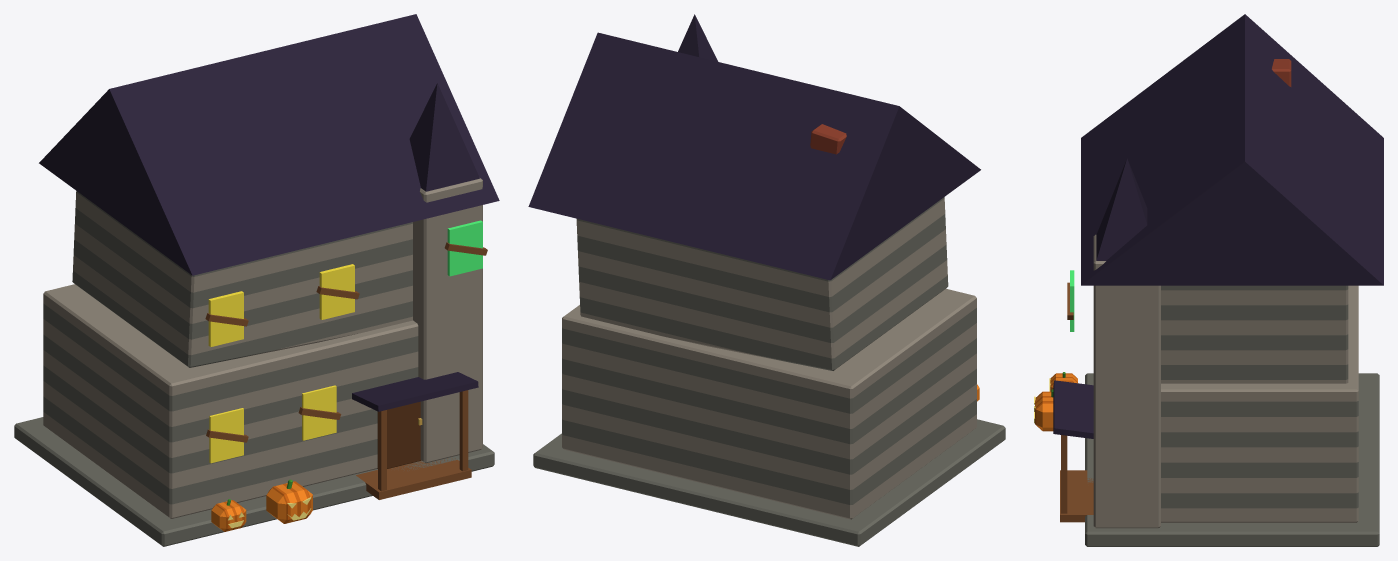
File: HauntedHouse.fbx
3 renders of one model, left to right at view 1: azimuth 30°, elevation 25°; view 2: azimuth 150°, elevation 25°; view 3: azimuth 270°, elevation 25°, orthographic.
Parts seen in each view (by area): view 1: HauntedHouse, HauntedHouse_Roof, HauntedHouse_Door; view 2: HauntedHouse, HauntedHouse_Roof; view 3: HauntedHouse, HauntedHouse_Roof.
Part boxes in pixels (x1,y1,x2,y2): HauntedHouse: (14, 178, 494, 546); HauntedHouse_Roof: (39, 14, 499, 275); HauntedHouse_Door: (377, 401, 422, 468); HauntedHouse: (533, 197, 1005, 546); HauntedHouse_Roof: (528, 14, 980, 280); HauntedHouse: (1034, 234, 1379, 546); HauntedHouse_Roof: (1081, 14, 1383, 285).
Bounding box in the file's own units: 18.1 × 20.3 × 16.63.
Materials: 1 (1 with a texture image).
